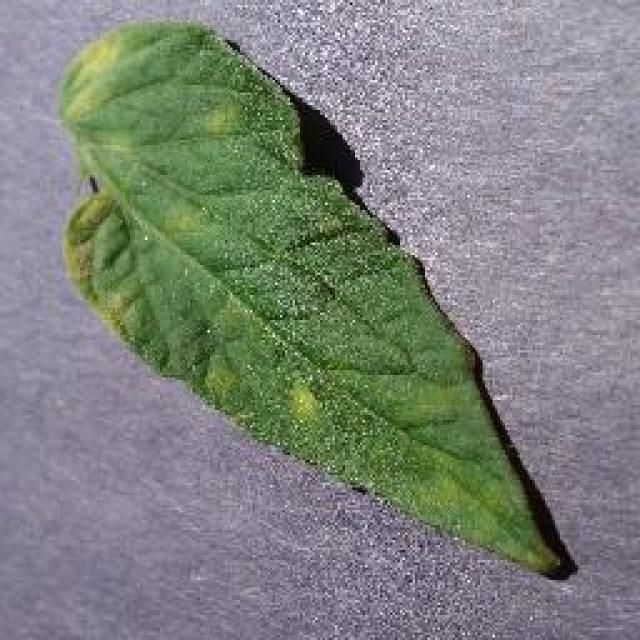Tomato___Leaf_Mold: (60, 22, 558, 570)
